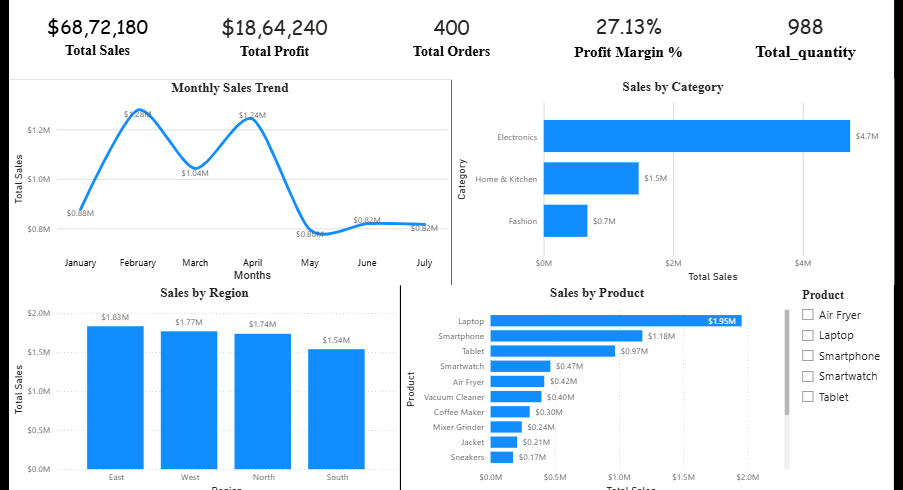

This screenshot's page, from the dashboard's own definition file:
{"tool":"powerbi","page":{"name":"Page 1","canvas":[1280,720],"ordinal":0},"visuals":[{"type":"card","fields":{"Values":["E-Commerce Sales.Total Sales"]},"box":[12.8,0,250.9,126.1],"z":0},{"type":"card","fields":{"Values":["E-Commerce Sales.Total Profit"]},"box":[263.6,0,250.9,126.1],"z":1000},{"type":"card","fields":{"Values":["E-Commerce Sales.Total Orders"]},"box":[514.5,0,250.9,126.1],"z":2000},{"type":"card","fields":{"Values":["E-Commerce Sales.Profit Margin %"]},"box":[765.4,0,250.9,126.1],"z":3000},{"type":"card","fields":{"Values":["E-Commerce Sales.Total_quantity"]},"box":[1016.2,0,250.9,126.1],"z":4000},{"type":"lineChart","title":"Monthly Sales Trend","fields":{"Category":["E-Commerce Sales.Order Date.Variation.Date Hierarchy.Month"],"Y":["E-Commerce Sales.Total Sales"]},"box":[13.4,126,626.6,290.6],"z":5000},{"type":"clusteredBarChart","title":"Sales by Category","fields":{"Y":["E-Commerce Sales.Total Sales"],"Category":["E-Commerce Sales.Category"]},"box":[640,124.3,626.6,292.3],"z":6000},{"type":"clusteredColumnChart","title":"Sales by Region","fields":{"Y":["E-Commerce Sales.Total Sales"],"Category":["E-Commerce Sales.Region"]},"box":[13.4,416.6,554.3,304],"z":7000},{"type":"barChart","title":"Sales by Product","fields":{"Y":["E-Commerce Sales.Total Sales"],"Category":["E-Commerce Sales.Product"]},"box":[567.8,416.6,556,304],"z":8000},{"type":"slicer","fields":{"Values":["E-Commerce Sales.Product"]},"box":[1123.9,416.7,143.1,303.3],"z":8001}]}

Visuals, with their boxes on the page's 1280x720 design canvas (x1, y1, x2, y2). These are canvas units, not pixel positions in the 903x490 screenshot, which may show the page scaled, cropped or inside an application window:
card - E-Commerce Sales.Total Sales: [x1=13, y1=0, x2=264, y2=126]
card - E-Commerce Sales.Total Profit: [x1=264, y1=0, x2=514, y2=126]
card - E-Commerce Sales.Total Orders: [x1=514, y1=0, x2=765, y2=126]
card - E-Commerce Sales.Profit Margin %: [x1=765, y1=0, x2=1016, y2=126]
card - E-Commerce Sales.Total_quantity: [x1=1016, y1=0, x2=1267, y2=126]
"Monthly Sales Trend" lineChart: [x1=13, y1=126, x2=640, y2=417]
"Sales by Category" clusteredBarChart: [x1=640, y1=124, x2=1267, y2=417]
"Sales by Region" clusteredColumnChart: [x1=13, y1=417, x2=568, y2=721]
"Sales by Product" barChart: [x1=568, y1=417, x2=1124, y2=721]
slicer - E-Commerce Sales.Product: [x1=1124, y1=417, x2=1267, y2=720]
